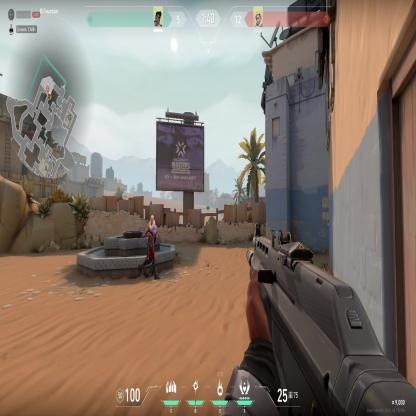enemy: (137, 213, 160, 281)
